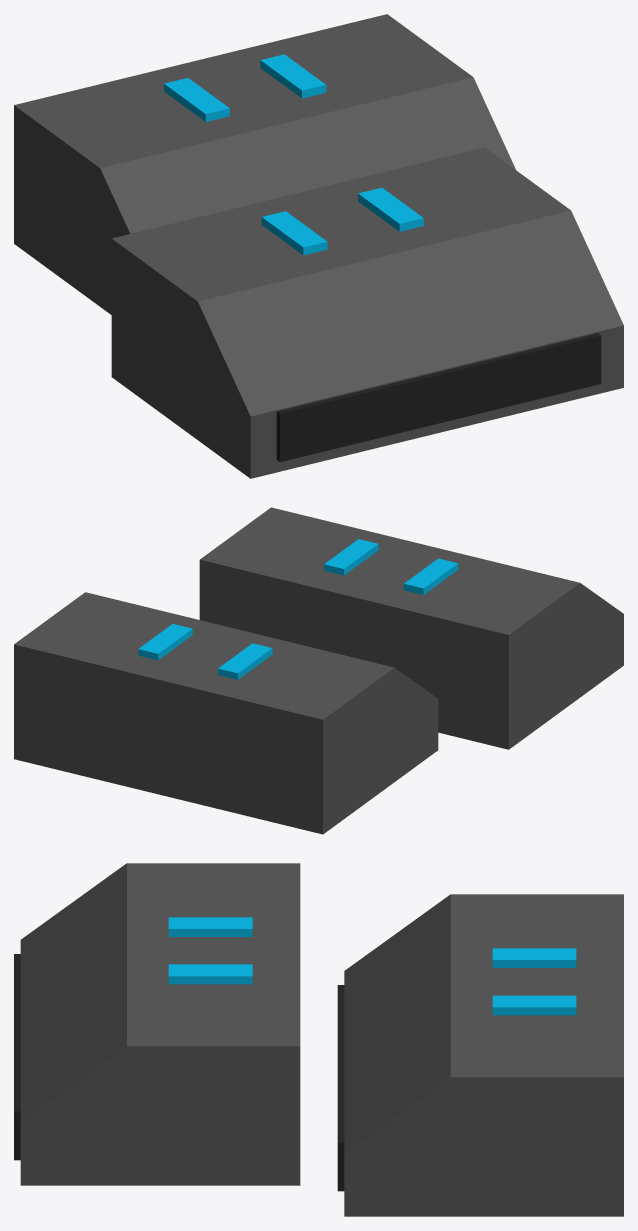
The model's file is ce_ammo2_plasmah_std_b.obj.
3 renders of one model, top to bottom at view 1: azimuth 30°, elevation 25°; view 2: azimuth 150°, elevation 25°; view 3: azimuth 270°, elevation 25°, orthographic. The views are drawn at different scales.
Parts seen in each view (by area): view 1: ce_ammo2_plasmah_std_b_4, ce_ammo2_plasmah_std_b_0, ce_ammo2_plasmah_std_b_5, ce_ammo2_plasmah_std_b_3, ce_ammo2_plasmah_std_b_6, ce_ammo2_plasmah_std_b_2, ce_ammo2_plasmah_std_b_7; view 2: ce_ammo2_plasmah_std_b_0, ce_ammo2_plasmah_std_b_4, ce_ammo2_plasmah_std_b_6, ce_ammo2_plasmah_std_b_7, ce_ammo2_plasmah_std_b_2, ce_ammo2_plasmah_std_b_3; view 3: ce_ammo2_plasmah_std_b_4, ce_ammo2_plasmah_std_b_0, ce_ammo2_plasmah_std_b_7, ce_ammo2_plasmah_std_b_3, ce_ammo2_plasmah_std_b_2, ce_ammo2_plasmah_std_b_6, ce_ammo2_plasmah_std_b_1, ce_ammo2_plasmah_std_b_5.
Boxes of the visible parts, x1=… form: ce_ammo2_plasmah_std_b_4: x1=111, y1=147, x2=623, y2=478; ce_ammo2_plasmah_std_b_0: x1=14, y1=14, x2=515, y2=314; ce_ammo2_plasmah_std_b_5: x1=276, y1=333, x2=601, y2=462; ce_ammo2_plasmah_std_b_3: x1=260, y1=54, x2=326, y2=98; ce_ammo2_plasmah_std_b_6: x1=261, y1=211, x2=327, y2=255; ce_ammo2_plasmah_std_b_2: x1=164, y1=78, x2=229, y2=121; ce_ammo2_plasmah_std_b_7: x1=358, y1=187, x2=423, y2=231; ce_ammo2_plasmah_std_b_0: x1=14, y1=592, x2=438, y2=834; ce_ammo2_plasmah_std_b_4: x1=199, y1=507, x2=623, y2=749; ce_ammo2_plasmah_std_b_6: x1=403, y1=558, x2=458, y2=594; ce_ammo2_plasmah_std_b_7: x1=324, y1=539, x2=378, y2=575; ce_ammo2_plasmah_std_b_2: x1=218, y1=643, x2=272, y2=679; ce_ammo2_plasmah_std_b_3: x1=138, y1=624, x2=192, y2=660; ce_ammo2_plasmah_std_b_4: x1=20, y1=863, x2=300, y2=1185; ce_ammo2_plasmah_std_b_0: x1=344, y1=894, x2=623, y2=1216; ce_ammo2_plasmah_std_b_7: x1=168, y1=964, x2=252, y2=984; ce_ammo2_plasmah_std_b_3: x1=492, y1=995, x2=576, y2=1015; ce_ammo2_plasmah_std_b_2: x1=492, y1=948, x2=576, y2=967; ce_ammo2_plasmah_std_b_6: x1=168, y1=917, x2=252, y2=936; ce_ammo2_plasmah_std_b_1: x1=337, y1=985, x2=344, y2=1191; ce_ammo2_plasmah_std_b_5: x1=14, y1=954, x2=20, y2=1160.
Bounding box in the file's own units: 0.689 × 0.221 × 0.829.
